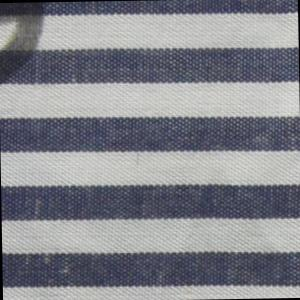Stain: (1, 2, 49, 89)
